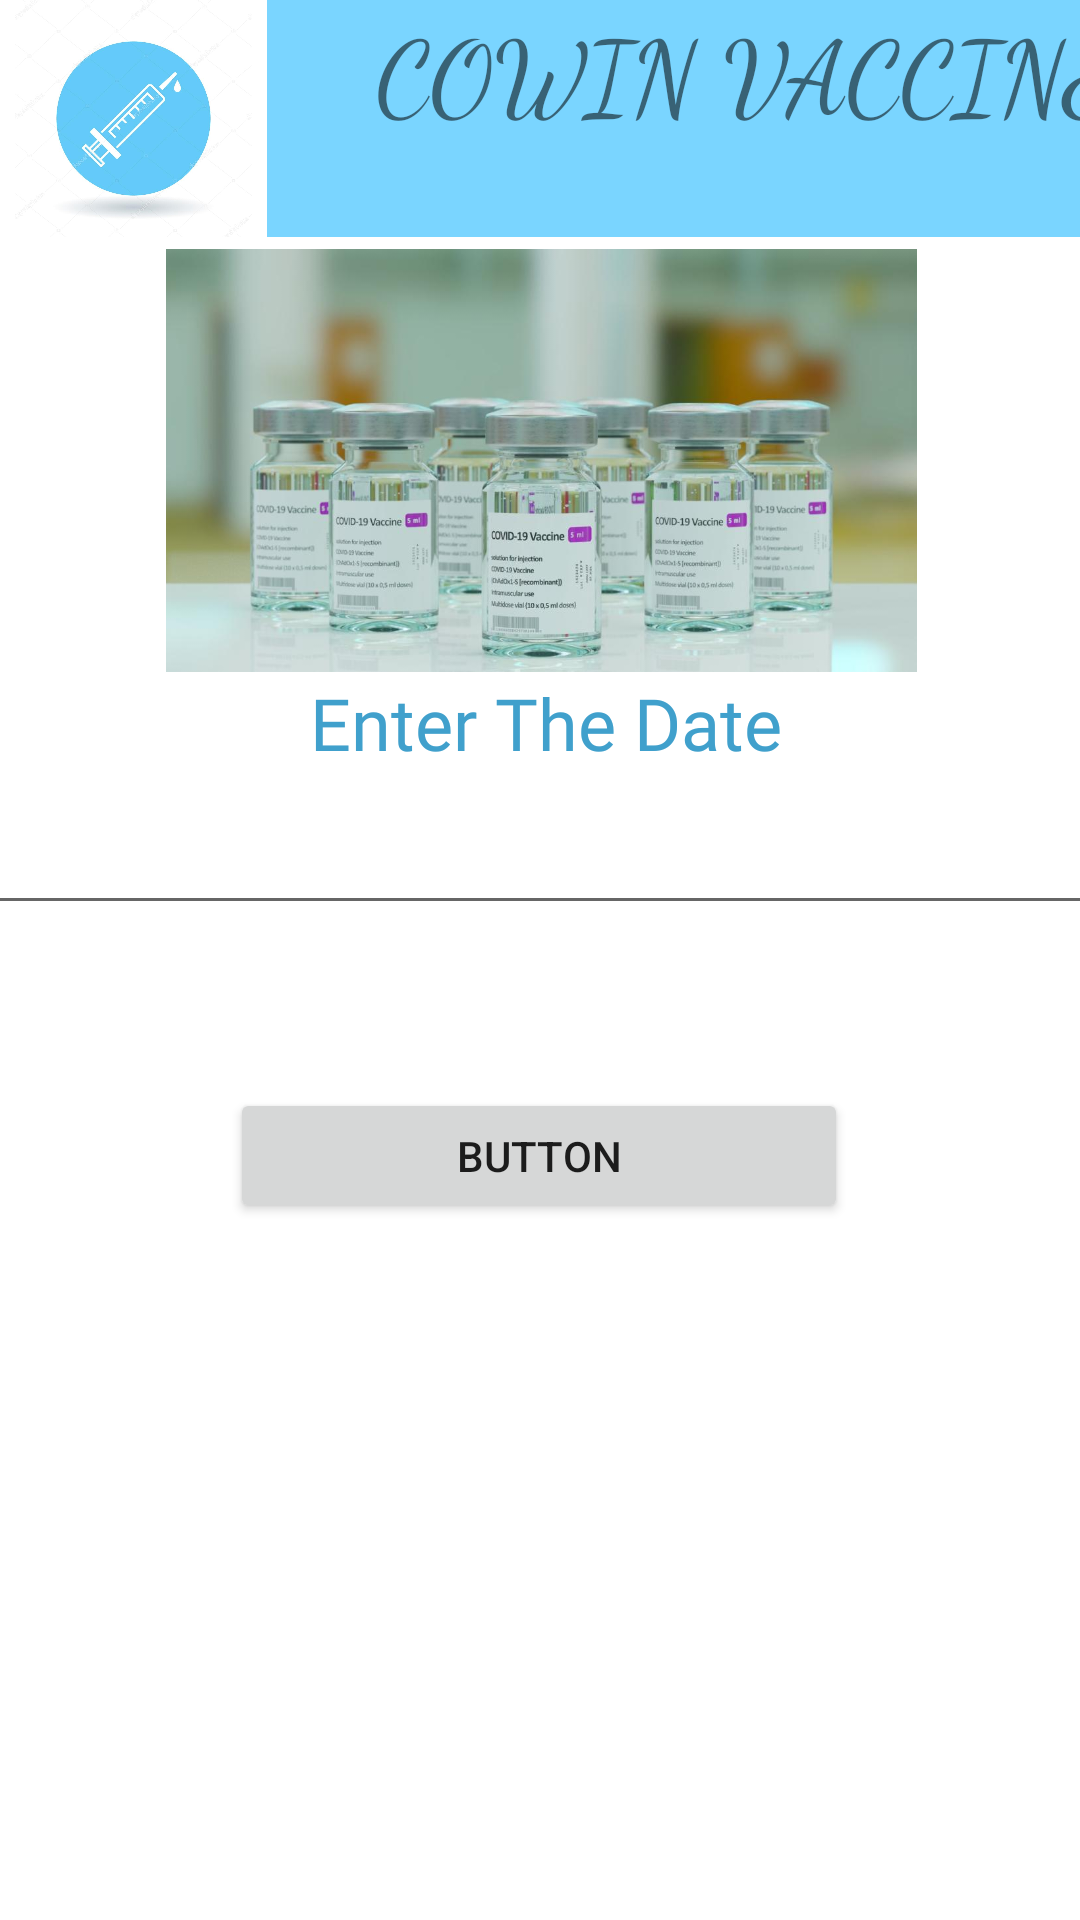

Icons on this 1080*1920 Android screen, each with its box as (x1, y1, x2, y2):
injection: (56, 41, 211, 216)
